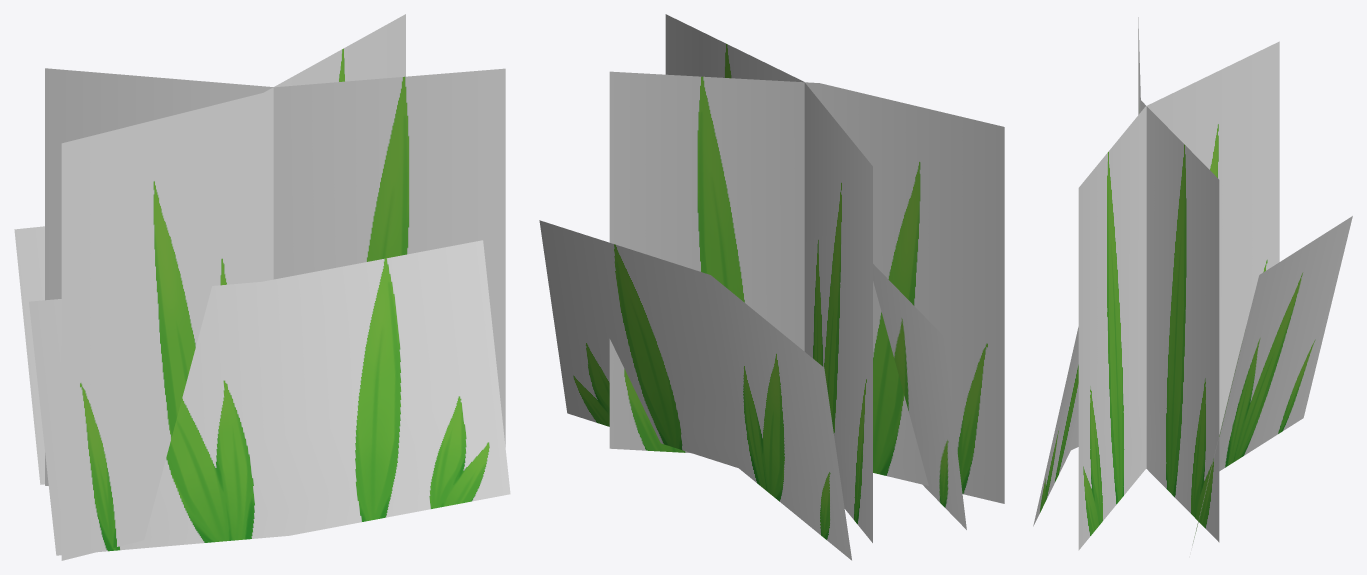
Rendered from Grass-vfx.fbx.
The picture shows the model from 3 angles, left to right: view 1: azimuth 30°, elevation 25°; view 2: azimuth 150°, elevation 25°; view 3: azimuth 270°, elevation 25°; orthographic projection. The views are drawn at different scales.
Visible parts, largest first — view 1: grass20; view 2: grass20; view 3: grass20.
Part boxes in pixels (bbox=[...]): grass20: bbox=[14, 14, 510, 560]; grass20: bbox=[539, 14, 1004, 560]; grass20: bbox=[1033, 17, 1352, 550].
Size of the model in its own units: 12.17 by 11.02 by 8.48.
Materials: 1 (1 with a texture image).
